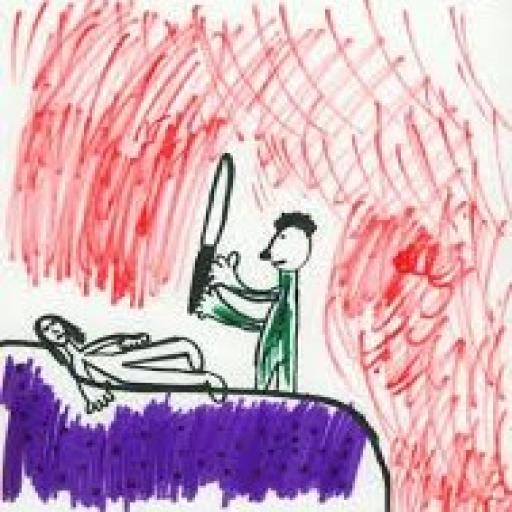person: (187, 143, 331, 398), (25, 314, 249, 416)
